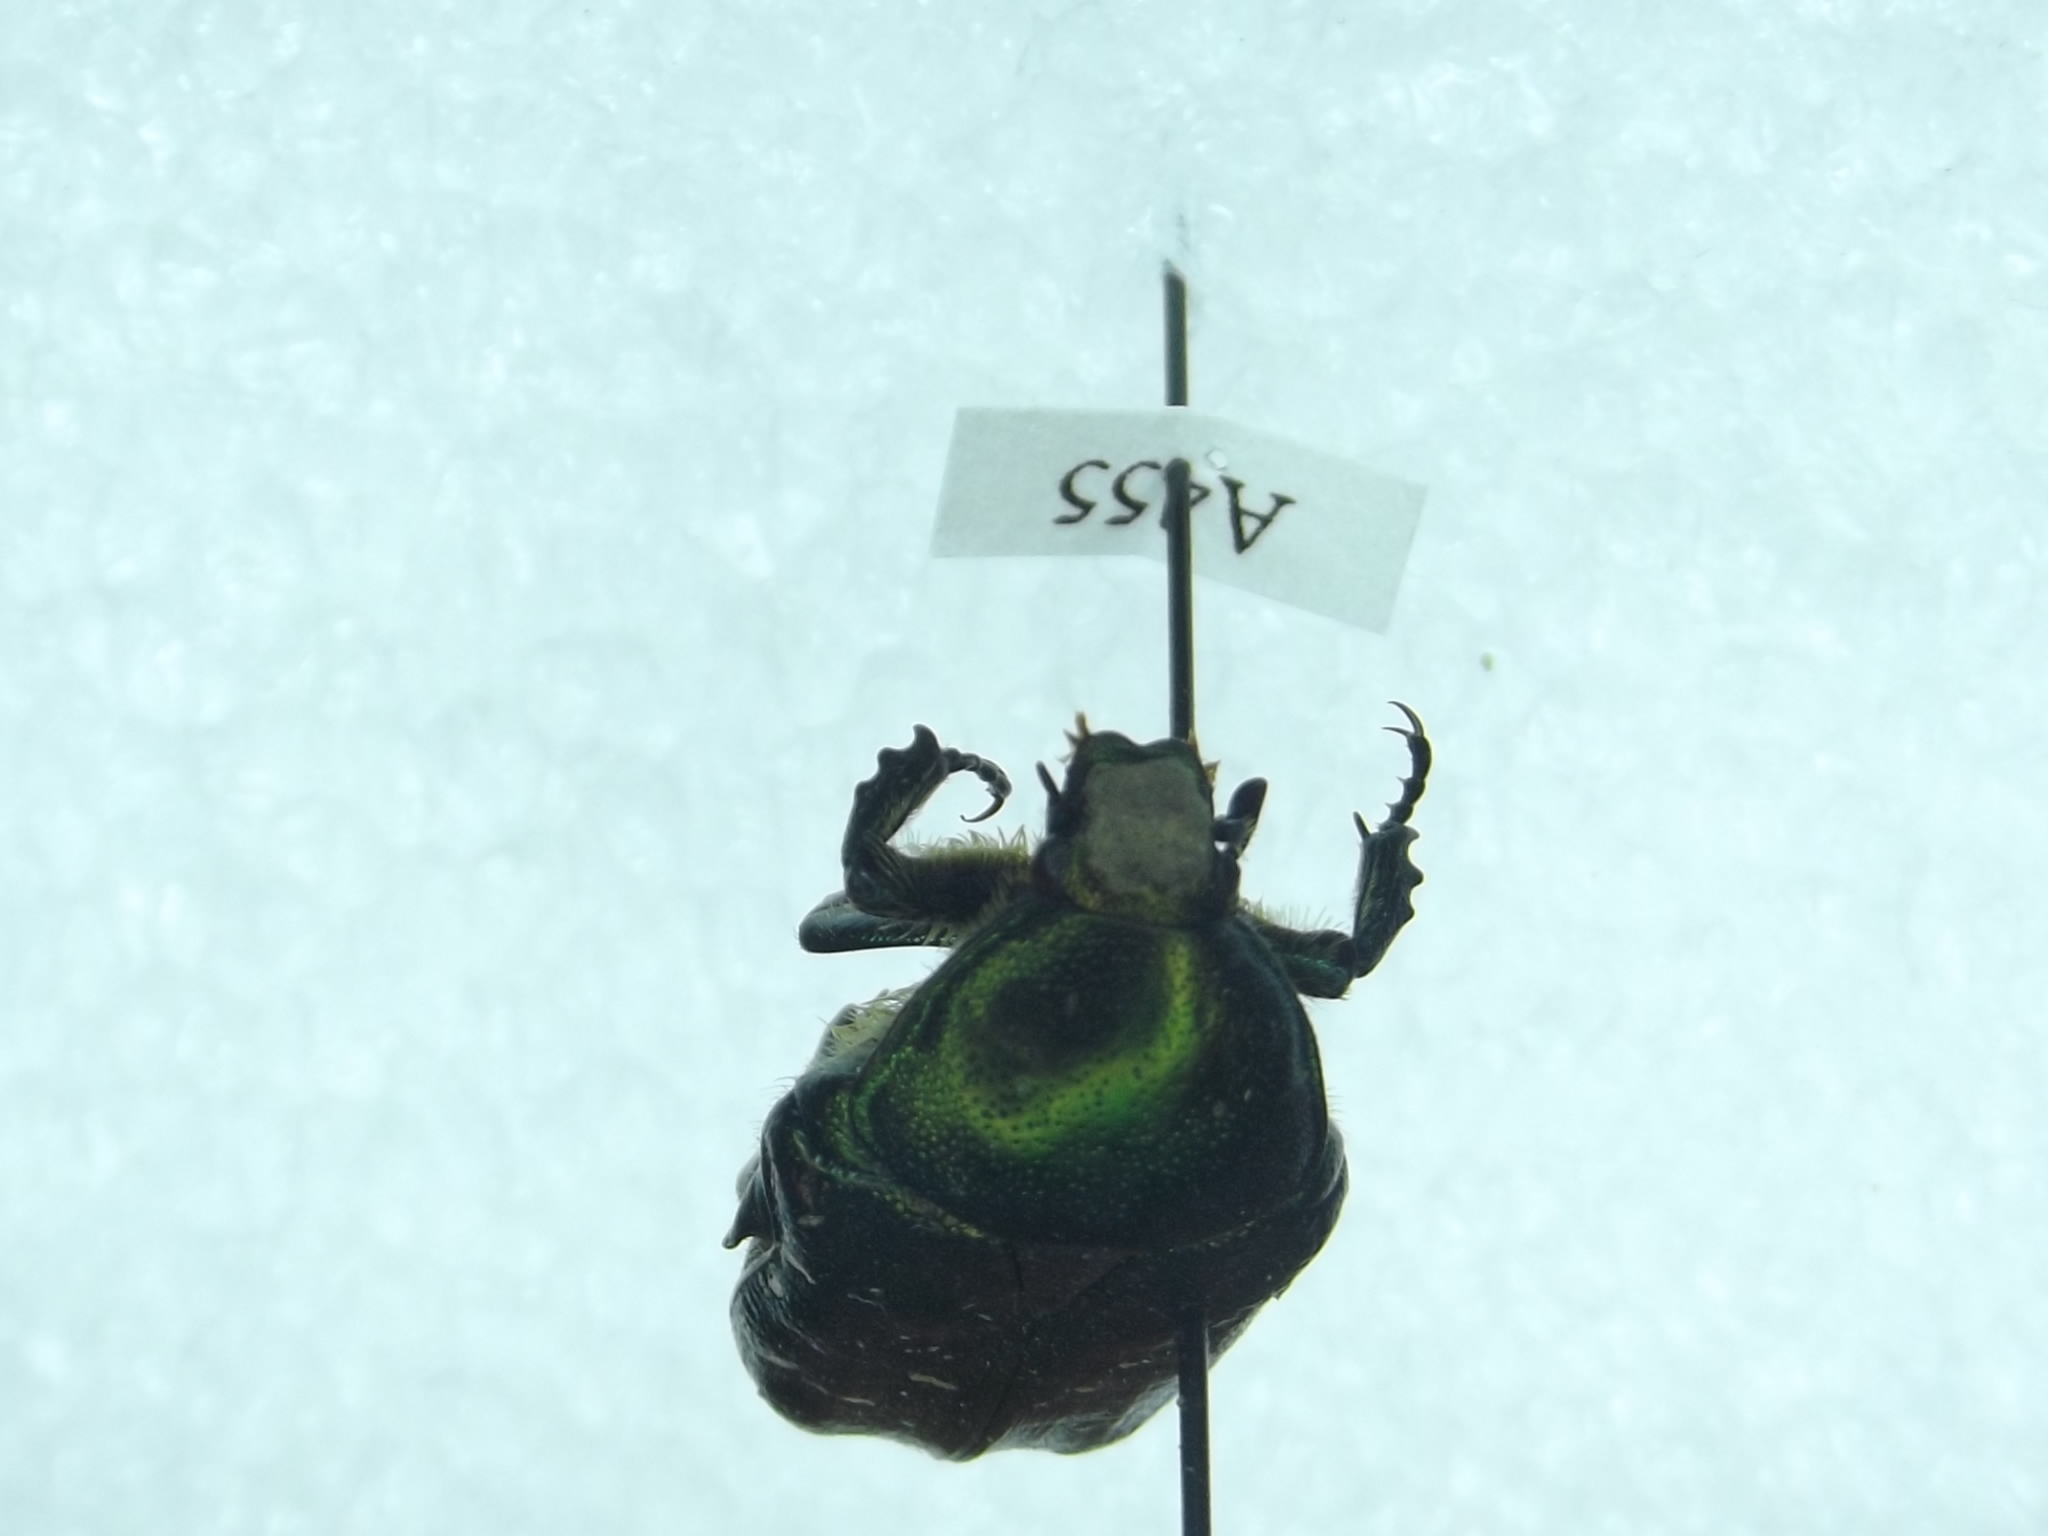Cetonia_kemali: (692, 691, 1455, 1465)
